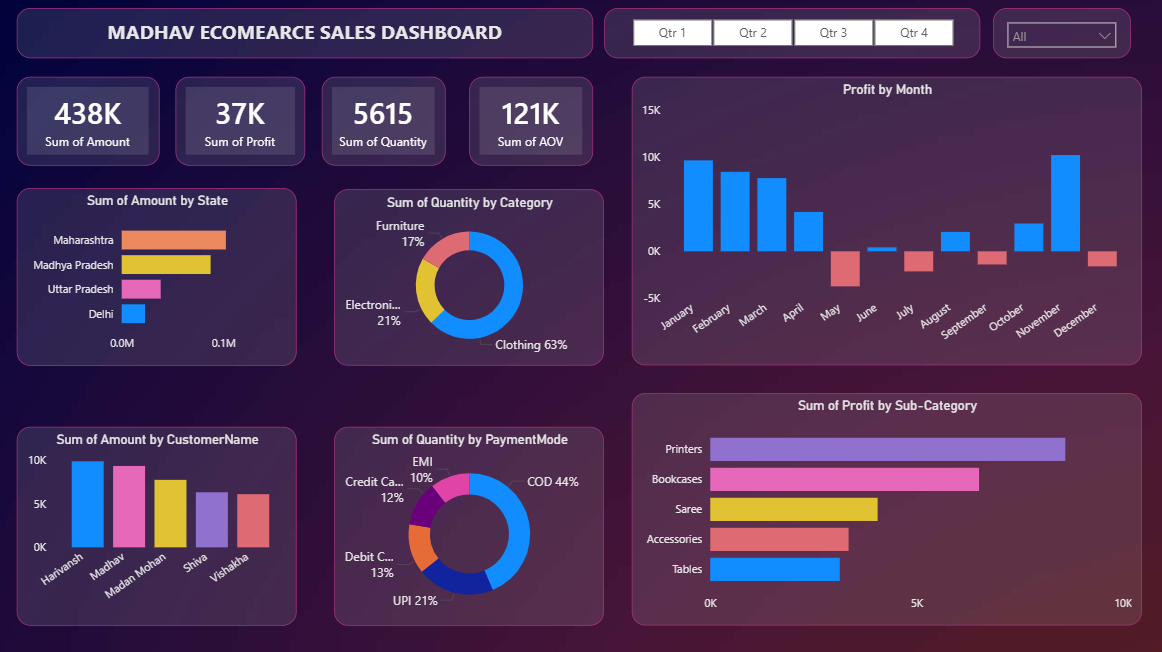

This screenshot's page, from the dashboard's own definition file:
{"tool":"powerbi","page":{"name":"Page 1","canvas":[1280,720],"ordinal":0},"visuals":[{"type":"textbox","box":[20.6,11,632.6,54.9],"z":0},{"type":"columnChart","title":"Profit by Month","fields":{"Category":["Orders.Order Date.Variation.Date Hierarchy.Month"],"Y":["Sum(Details.Profit)"]},"box":[695.7,86.4,559.9,317],"z":1000},{"type":"barChart","fields":{"Category":["Details.Sub-Category"],"Y":["Sum(Details.Profit)"]},"box":[695.7,433.6,559.9,255.2],"z":2000},{"type":"donutChart","fields":{"Y":["Sum(Details.Quantity)"],"Category":["Details.PaymentMode"]},"box":[369.1,470.7,296.4,218.2],"z":3000},{"type":"donutChart","fields":{"Category":["Details.Category"],"Y":["Sum(Details.Quantity)"]},"box":[369.1,209.9,296.4,193.5],"z":4000},{"type":"cardVisual","fields":{"Data":["Sum(Details.Amount)"]},"box":[20.6,86.4,156.4,97.4],"z":5000},{"type":"cardVisual","fields":{"Data":["Sum(Details.Quantity)"]},"box":[355.4,86.4,135.8,97.4],"z":6000},{"type":"cardVisual","fields":{"Data":["Sum(Details.Profit)"]},"box":[194.9,86.4,142.7,97.4],"z":7000},{"type":"cardVisual","fields":{"Data":["Sum(Details.AOV)"]},"box":[517.3,86.4,135.8,97.4],"z":8000},{"type":"barChart","fields":{"Y":["Sum(Details.Amount)"],"Category":["Orders.State"]},"box":[20.6,208.6,307.4,194.9],"z":9000},{"type":"columnChart","fields":{"Category":["Orders.CustomerName"],"Y":["Sum(Details.Amount)"]},"box":[20.6,470.7,307.4,218.2],"z":10000},{"type":"slicer","fields":{"Values":["Orders.Order Date.Variation.Date Hierarchy.Quarter"]},"box":[665.5,11,413,54.9],"z":10001},{"type":"slicer","fields":{"Values":["Orders.State"]},"box":[1092.3,11,150.9,54.9],"z":10002}]}

Visuals, with their boxes in screenshot pixels (x1, y1, x2, y2), scaled from the page's 1280x720 canvas onto the 1162x652 screenshot:
textbox: rect(19, 10, 593, 60)
"Profit by Month" columnChart: rect(632, 78, 1140, 365)
barChart - Details.Sub-Category x Sum(Details.Profit): rect(632, 393, 1140, 624)
donutChart - Sum(Details.Quantity) x Details.PaymentMode: rect(335, 426, 604, 624)
donutChart - Details.Category x Sum(Details.Quantity): rect(335, 190, 604, 365)
cardVisual - Sum(Details.Amount): rect(19, 78, 161, 166)
cardVisual - Sum(Details.Quantity): rect(323, 78, 446, 166)
cardVisual - Sum(Details.Profit): rect(177, 78, 306, 166)
cardVisual - Sum(Details.AOV): rect(470, 78, 593, 166)
barChart - Sum(Details.Amount) x Orders.State: rect(19, 189, 298, 365)
columnChart - Orders.CustomerName x Sum(Details.Amount): rect(19, 426, 298, 624)
slicer - Orders.Order Date.Variation.Date Hierarchy.Quarter: rect(604, 10, 979, 60)
slicer - Orders.State: rect(992, 10, 1129, 60)
